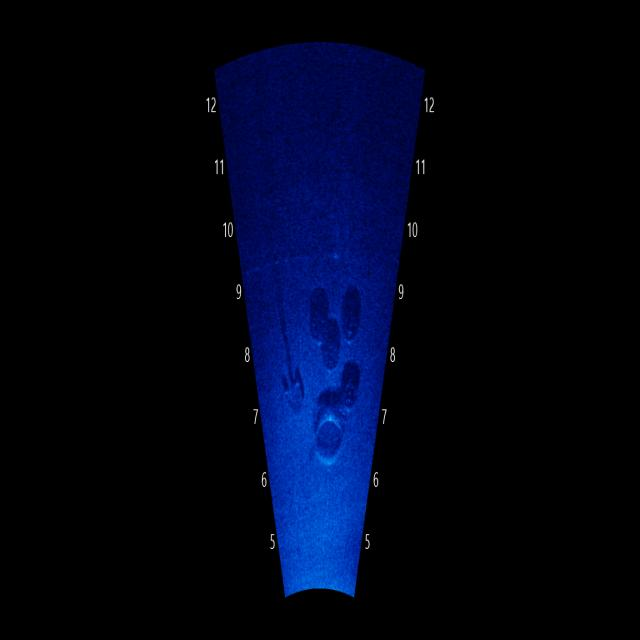circle: (308, 397, 348, 478), (336, 369, 364, 424)
